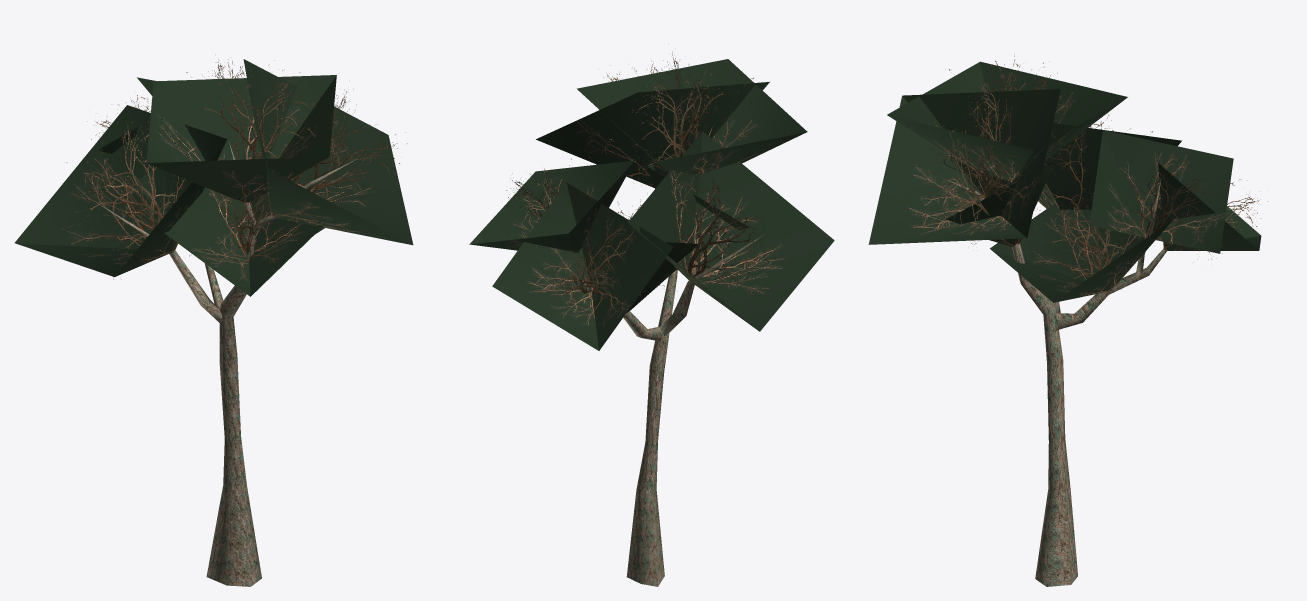
File: decd_dogwoodtreebranches_a1_l0.fbx
The picture shows the model from 3 angles, left to right: view 1: azimuth 30°, elevation 25°; view 2: azimuth 150°, elevation 25°; view 3: azimuth 270°, elevation 25°; orthographic projection. The views are drawn at different scales.
Parts seen in each view (by area): view 1: mesh_node; view 2: mesh_node; view 3: mesh_node.
Boxes of the visible parts, x1,y1,x2,y2 form: mesh_node: (15, 59, 413, 586); mesh_node: (469, 51, 834, 586); mesh_node: (868, 55, 1267, 586).
Bounding box in the file's own units: 13.28 × 20.95 × 15.36.
